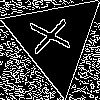X: (30, 14, 79, 56)
